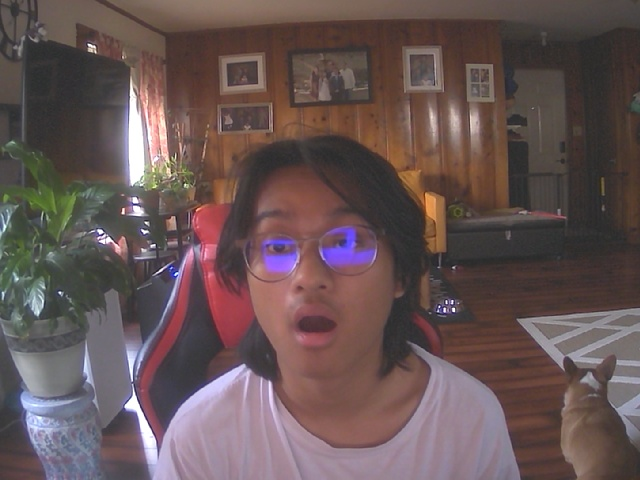fear: (229, 153, 417, 382)
